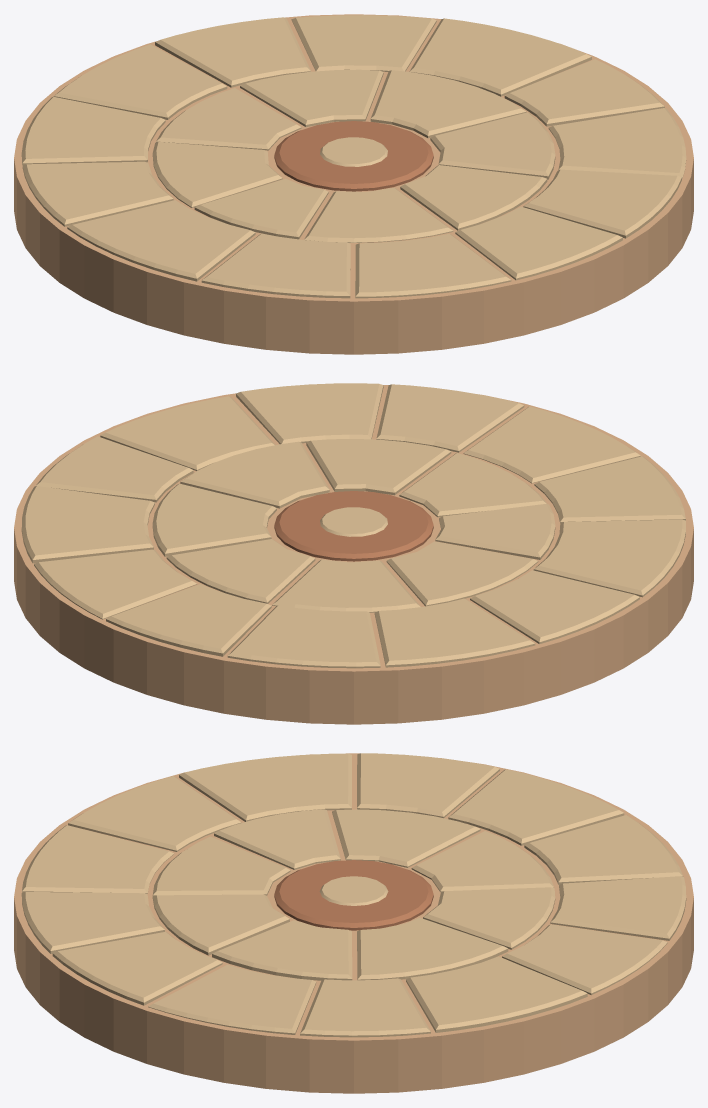
File: terrace_path_node.fbx
The picture shows the model from 3 angles, top to bottom: view 1: azimuth 30°, elevation 25°; view 2: azimuth 150°, elevation 25°; view 3: azimuth 270°, elevation 25°; orthographic projection.
Visible parts, largest first — view 1: Terrace_Path_Node; view 2: Terrace_Path_Node; view 3: Terrace_Path_Node.
Part boxes in pixels (box(x1,y1,x2,y2)): Terrace_Path_Node: box(14, 14, 693, 354); Terrace_Path_Node: box(14, 383, 693, 724); Terrace_Path_Node: box(14, 753, 693, 1093).
Size of the model in its own units: 400 by 39.2 by 400.
